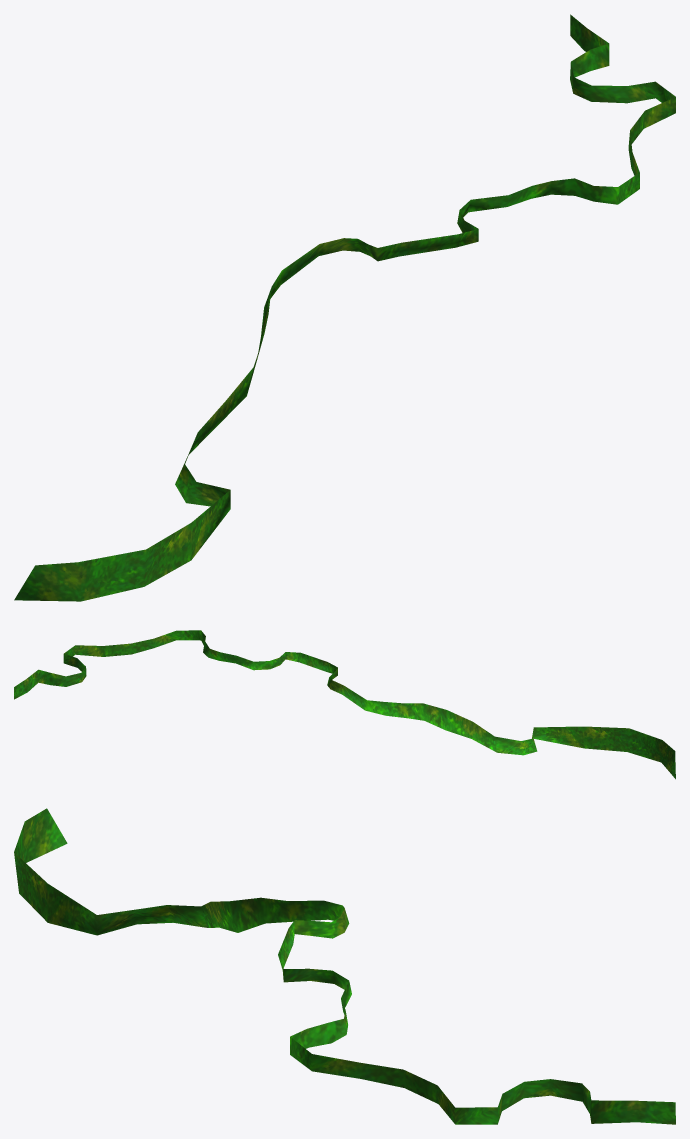
File: EKH_ENTRANCE_PS_EN_GRASSTRIM84746.fbx
The picture shows the model from 3 angles, top to bottom: view 1: azimuth 30°, elevation 25°; view 2: azimuth 150°, elevation 25°; view 3: azimuth 270°, elevation 25°; orthographic projection. The views are drawn at different scales.
Parts seen in each view (by area): view 1: EKH_ENTRANCE_PS_EN_GRASSTRIM84746; view 2: EKH_ENTRANCE_PS_EN_GRASSTRIM84746; view 3: EKH_ENTRANCE_PS_EN_GRASSTRIM84746.
Boxes of the visible parts, x1,y1,x2,y2 form: EKH_ENTRANCE_PS_EN_GRASSTRIM84746: [14, 14, 675, 601]; EKH_ENTRANCE_PS_EN_GRASSTRIM84746: [14, 630, 675, 779]; EKH_ENTRANCE_PS_EN_GRASSTRIM84746: [14, 808, 675, 1124].
Bounding box in the file's own units: 185187 × 34801 × 120038.
1 material, 1 textured.
